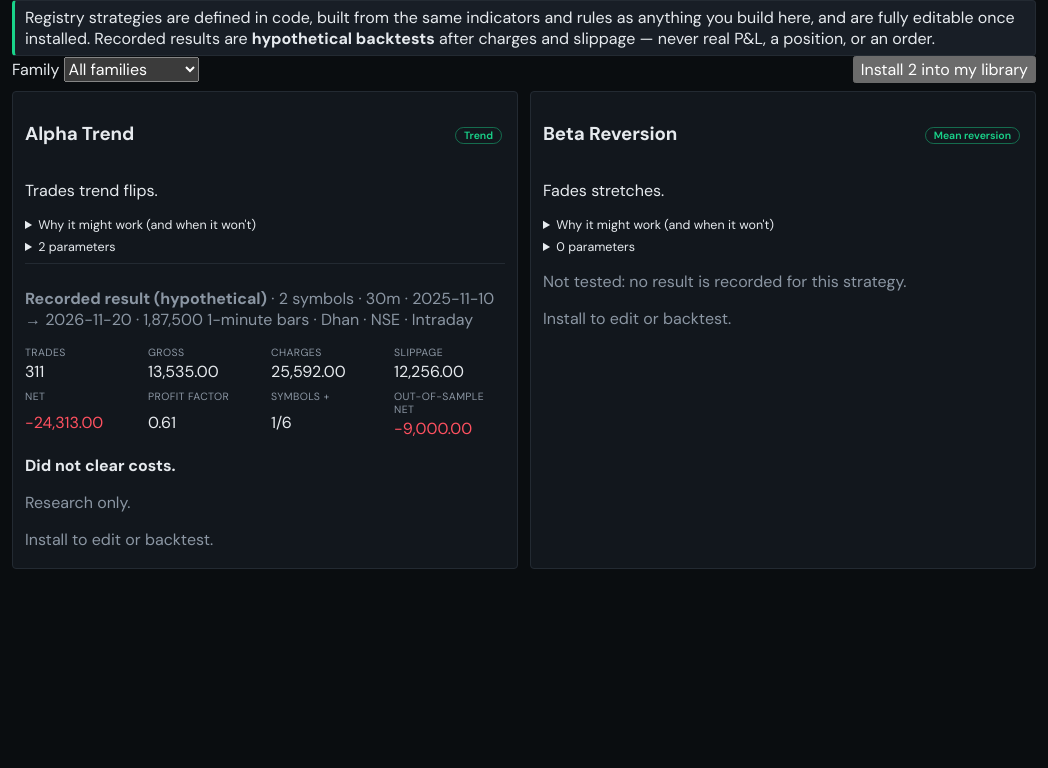
Scenario: StrategyRegistry › filters by family and installs the missing strategies into the library
Expected: the element "Alpha Trend" is shown, [12,91,518,569]
Select "Mean reversion" in the dropdown labelled "Family". click: x=131, y=70
box: [64,57,198,82]
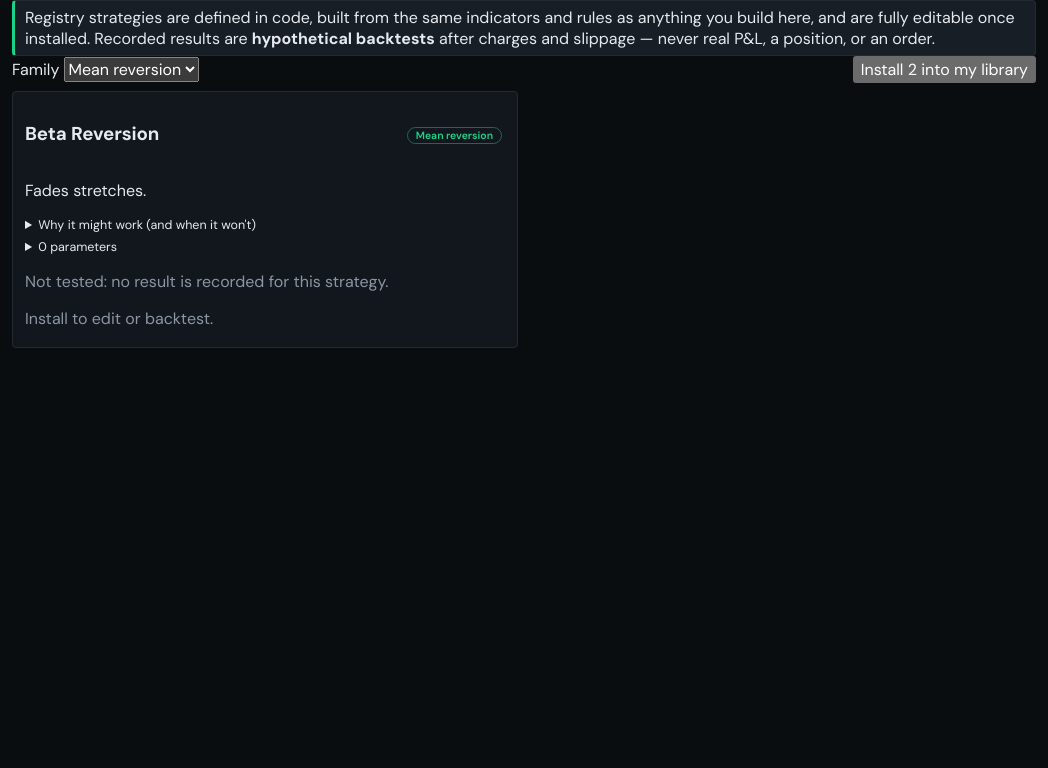
Expected: the element "Beta Reversion" is shown, [12,91,518,348]
Now the heading "Alpha Trend" is gone
Click the button "Install 2 into my library". click: x=944, y=70
box: [853,56,1036,83]
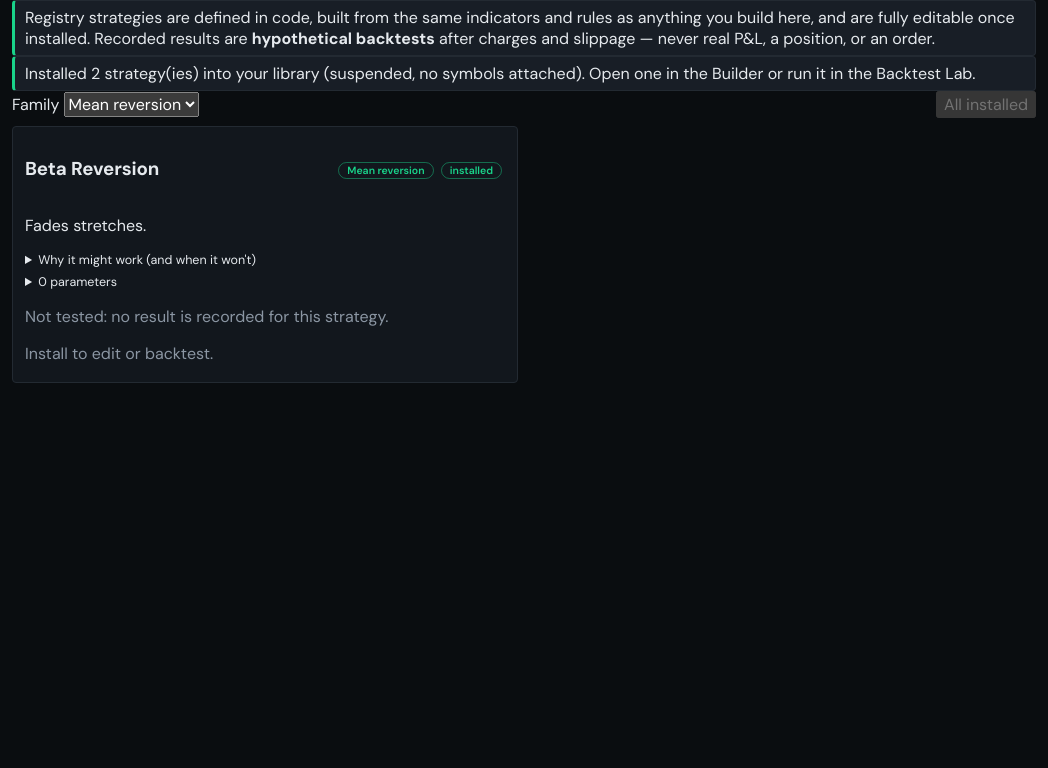
Now the text "Installed 2 strategy(ies) into your library" is shown, box [25,63,976,84]
Now the button "All installed" is disabled, box [936,91,1036,118]
